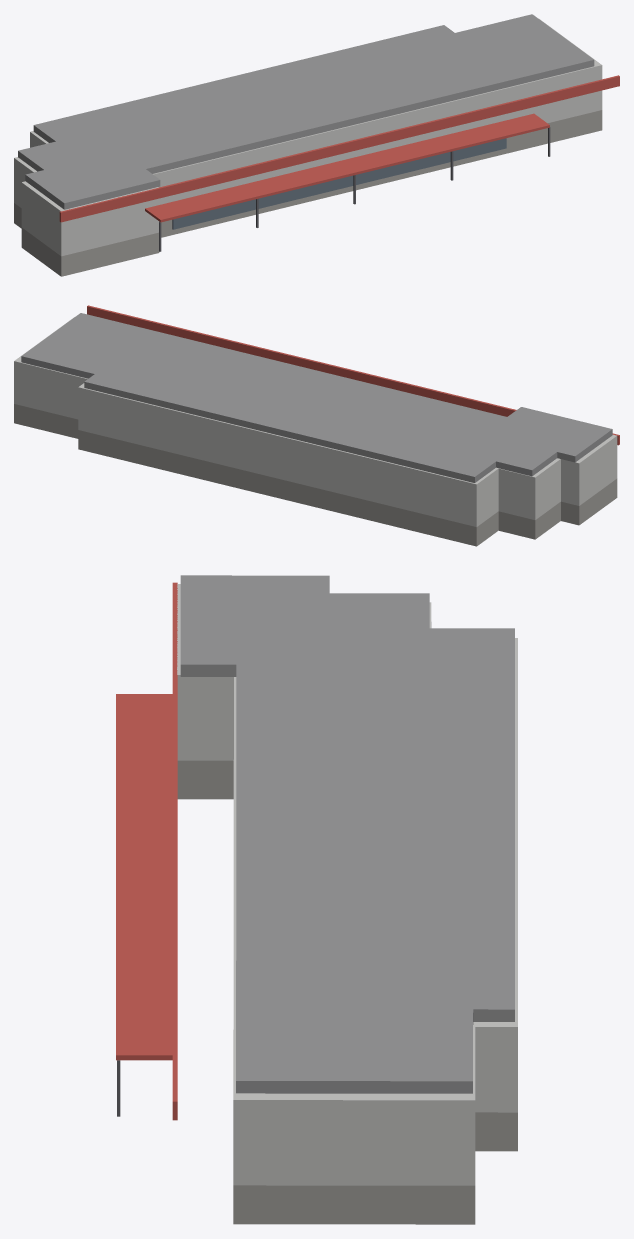
The model's file is landmark-kandern-penny.glb.
The picture shows the model from 3 angles, top to bottom: view 1: azimuth 30°, elevation 25°; view 2: azimuth 150°, elevation 25°; view 3: azimuth 270°, elevation 25°; orthographic projection. The views are drawn at different scales.
Visible parts, largest first — view 1: building; view 2: building; view 3: building.
Part boxes in pixels (<box>): building: <box>14,14,619,276</box>; building: <box>14,305,619,546</box>; building: <box>116,575,517,1224</box>.
Bounding box in the file's own units: 71.65 × 8.8 × 23.45.
